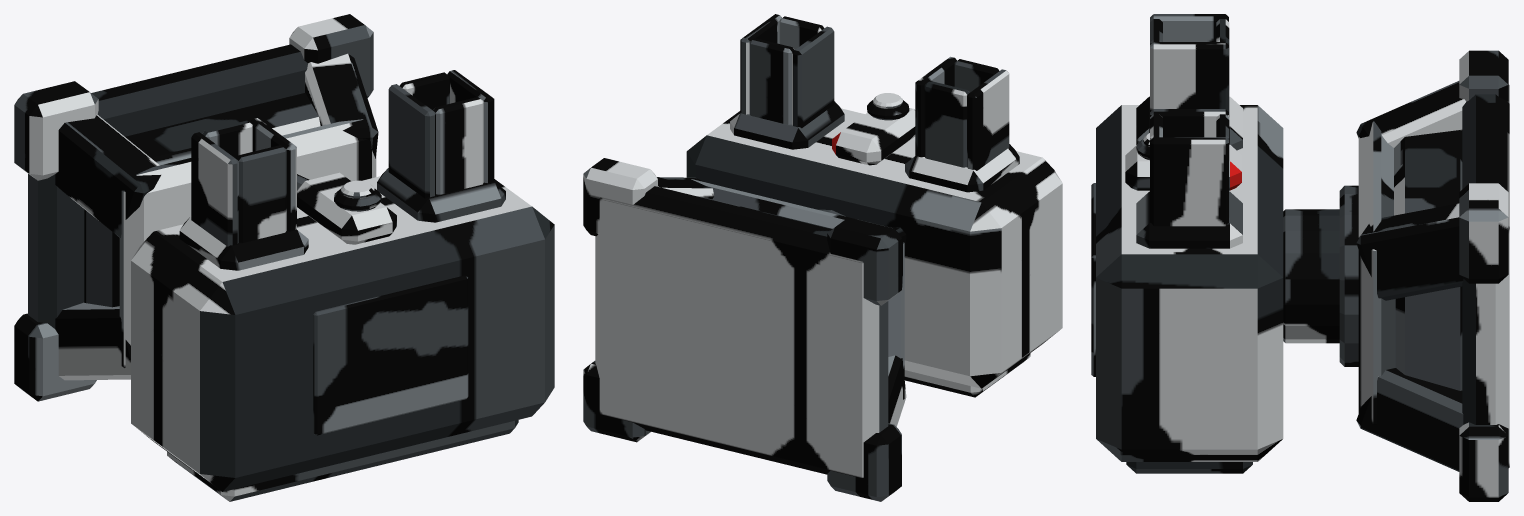
Rendered from Twin.obj.
The picture shows the model from 3 angles, left to right: view 1: azimuth 30°, elevation 25°; view 2: azimuth 150°, elevation 25°; view 3: azimuth 270°, elevation 25°; orthographic projection. The views are drawn at different scales.
Visible parts, largest first — view 1: Twin_Armored_head_LOW, Twin_Top_insert_LOW, Twin_Foundation_LOW, Twin_Upper_base_LOW, Twin_Slope_1_-1_LOW, Twin_Lower_core_LOW, Twin_Anchor_1_-1_LOW, Twin_Slope_1_1_LOW, Twin_Barrel_side_0_1_LOW, Twin_Barrel_side_1_1_LOW, Twin_Barrel_cap_1_1_LOW, Twin_Barrel_cap_0_1_LOW (+12 smaller); view 2: Twin_Foundation_LOW, Twin_Armored_head_LOW, Twin_Anchor_1_-1_LOW, Twin_Barrel_side_0_1_LOW, Twin_Barrel_side_1_1_LOW, Twin_Upper_base_LOW, Twin_Barrel_cap_0_-1_LOW, Twin_Barrel_cap_1_-1_LOW, Twin_Anchor_1_1_LOW, Twin_Anchor_-1_-1_LOW, Twin_Sensor_housing_LOW, Twin_Mantlet_1_LOW (+10 smaller); view 3: Twin_Armored_head_LOW, Twin_Foundation_LOW, Twin_Lower_core_LOW, Twin_Yaw_column_LOW, Twin_Slope_-1_-1_LOW, Twin_Upper_base_LOW, Twin_Barrel_side_0_-1_LOW, Twin_Slope_-1_1_LOW, Twin_Barrel_side_1_-1_LOW, Twin_Anchor_-1_-1_LOW, Twin_Anchor_-1_1_LOW, Twin_Bearing_LOW (+9 smaller).
Boxes of the visible parts, left/top/right/bottom form: Twin_Armored_head_LOW: left=131, top=176, right=554, bottom=491; Twin_Top_insert_LOW: left=313, top=275, right=468, bottom=435; Twin_Foundation_LOW: left=28, top=44, right=307, bottom=328; Twin_Upper_base_LOW: left=119, top=119, right=376, bottom=367; Twin_Slope_1_-1_LOW: left=55, top=114, right=160, bottom=237; Twin_Lower_core_LOW: left=84, top=93, right=320, bottom=307; Twin_Anchor_1_-1_LOW: left=14, top=81, right=98, bottom=180; Twin_Slope_1_1_LOW: left=55, top=302, right=130, bottom=380; Twin_Barrel_side_0_1_LOW: left=388, top=84, right=435, bottom=198; Twin_Barrel_side_1_1_LOW: left=191, top=132, right=238, bottom=246; Twin_Barrel_cap_1_1_LOW: left=236, top=145, right=286, bottom=242; Twin_Barrel_cap_0_1_LOW: left=433, top=97, right=483, bottom=194; Twin_Foundation_LOW: left=595, top=186, right=888, bottom=478; Twin_Armored_head_LOW: left=686, top=108, right=1062, bottom=388; Twin_Anchor_1_-1_LOW: left=827, top=217, right=901, bottom=305; Twin_Barrel_side_0_1_LOW: left=792, top=26, right=834, bottom=128; Twin_Barrel_side_1_1_LOW: left=967, top=69, right=1009, bottom=170; Twin_Upper_base_LOW: left=691, top=179, right=904, bottom=399; Twin_Barrel_cap_0_-1_LOW: left=749, top=38, right=794, bottom=124; Twin_Barrel_cap_1_-1_LOW: left=924, top=81, right=969, bottom=167; Twin_Anchor_1_1_LOW: left=827, top=423, right=901, bottom=501; Twin_Anchor_-1_-1_LOW: left=583, top=158, right=657, bottom=236; Twin_Sensor_housing_LOW: left=832, top=108, right=915, bottom=165; Twin_Mantlet_1_LOW: left=905, top=144, right=1019, bottom=192; Twin_Armored_head_LOW: left=1096, top=105, right=1283, bottom=461; Twin_Foundation_LOW: left=1462, top=84, right=1509, bottom=467; Twin_Lower_core_LOW: left=1394, top=130, right=1462, bottom=390; Twin_Yaw_column_LOW: left=1283, top=209, right=1339, bottom=343; Twin_Slope_-1_-1_LOW: left=1356, top=203, right=1463, bottom=300; Twin_Upper_base_LOW: left=1358, top=121, right=1395, bottom=424; Twin_Barrel_side_0_-1_LOW: left=1150, top=137, right=1228, bottom=226; Twin_Slope_-1_1_LOW: left=1356, top=368, right=1463, bottom=471; Twin_Barrel_side_1_-1_LOW: left=1150, top=42, right=1228, bottom=111; Twin_Anchor_-1_-1_LOW: left=1459, top=183, right=1508, bottom=283; Twin_Anchor_-1_1_LOW: left=1459, top=422, right=1508, bottom=501; Twin_Bearing_LOW: left=1339, top=185, right=1358, bottom=366.
Size of the model in its own units: 2.05 by 1.94 by 2.12.
